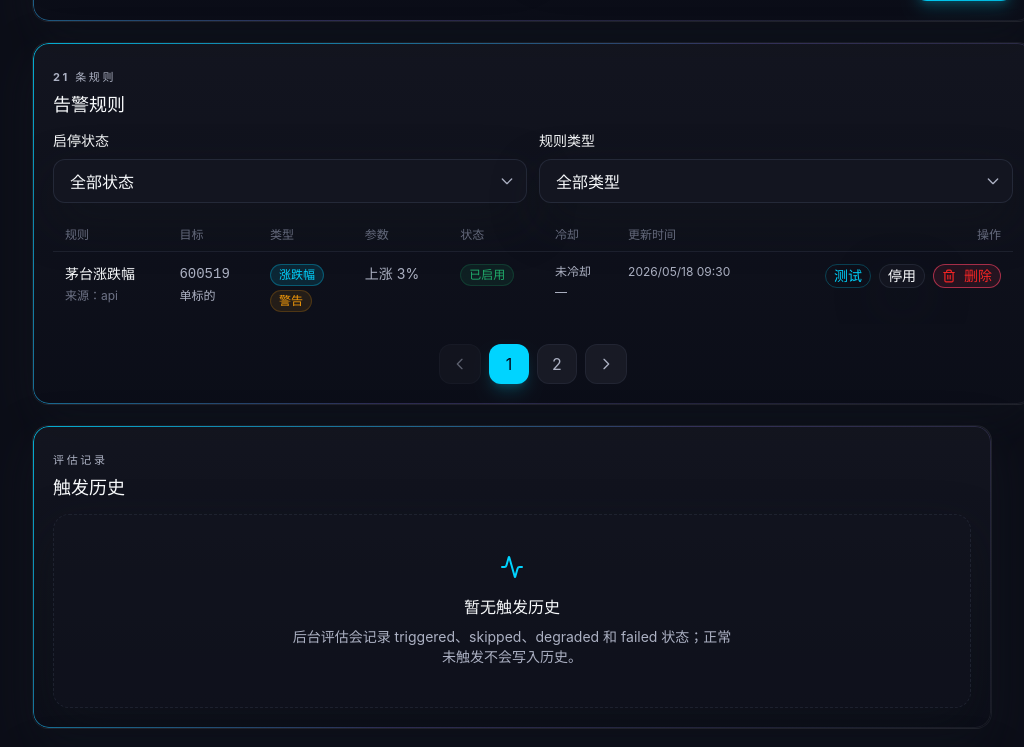
Scenario: AlertsPage › clamps rules pagination when a mutation leaves the current page empty
(page scrolled)
Expected: the text "茅台涨跌幅" is shown, top-left (65, 265), bottom-right (135, 282)
Click the button "2" at (557, 364), box top-left (537, 344), bottom-right (577, 384)
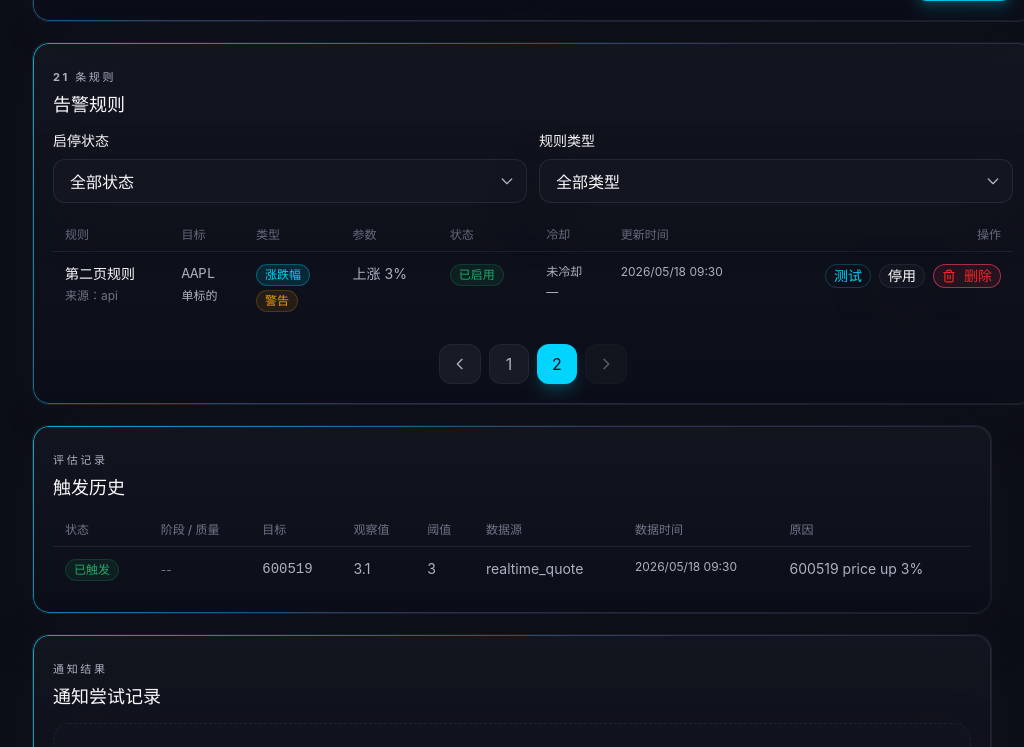
Now the text "第二页规则" is shown, box top-left (65, 265), bottom-right (135, 282)
Click the button with aria-label "删除 第二页规则" at (967, 276), box top-left (933, 264), bottom-right (1001, 288)
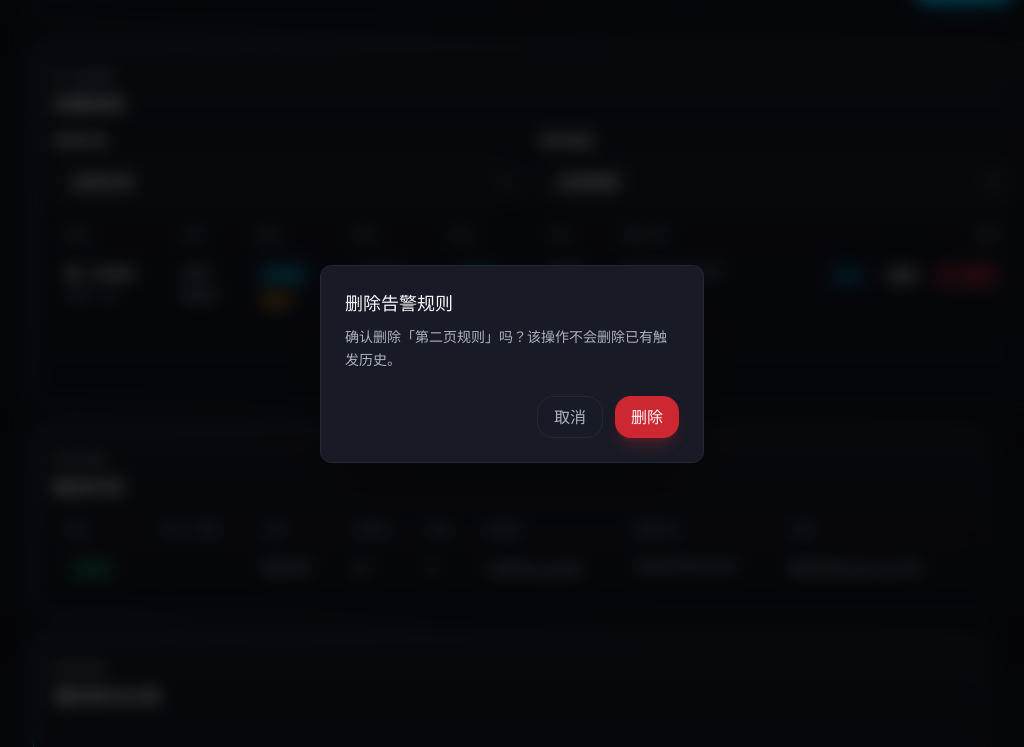
Click the button "删除" at (647, 417), box top-left (615, 396), bottom-right (679, 438)
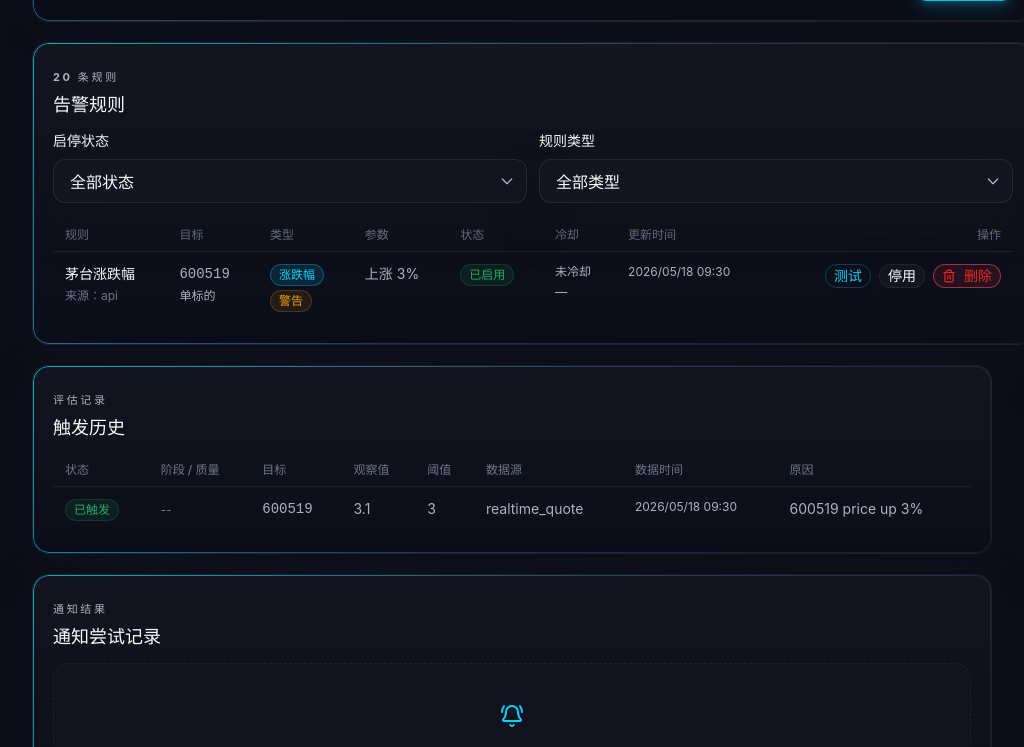
Now the text "茅台涨跌幅" is shown, box top-left (65, 265), bottom-right (135, 282)
